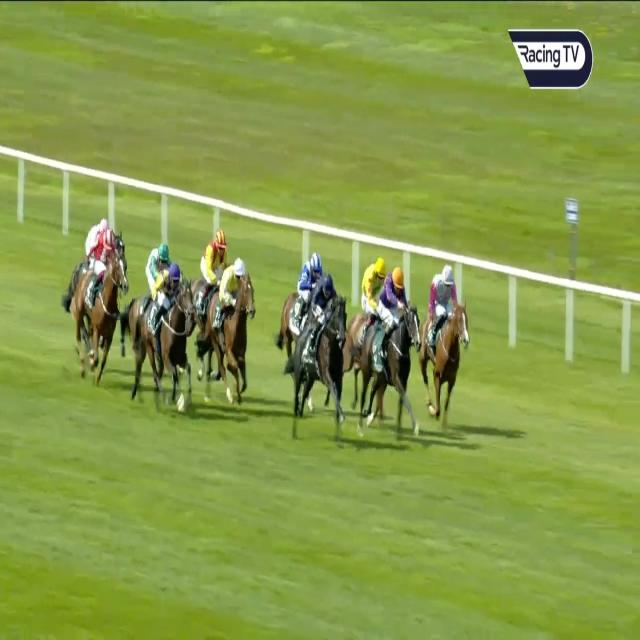horses-racing: (287, 274, 349, 421), (361, 267, 414, 426), (423, 262, 472, 428), (203, 259, 259, 401), (138, 266, 193, 401), (75, 230, 123, 380), (284, 243, 329, 308), (81, 209, 132, 265), (192, 222, 230, 292), (144, 237, 179, 295), (357, 253, 386, 319)
